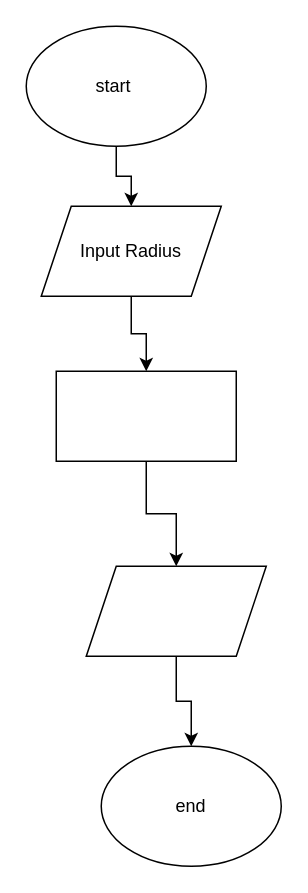
This 308x893 diagram has some shape labels left out. Here are the shapes that lost their labels. From the top down, the centre of each, then its label:
At pixel 145 415: "Area=3.14*R*R".
At pixel 175 610: "print Area".
